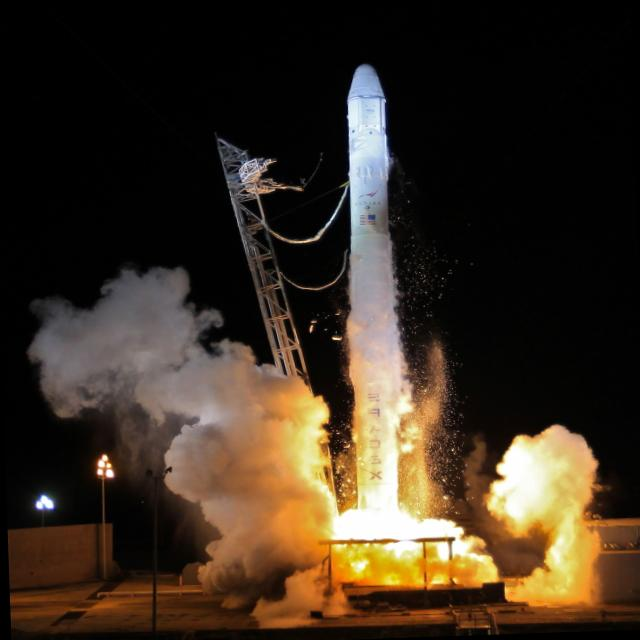rocket: (337, 58, 410, 505)
